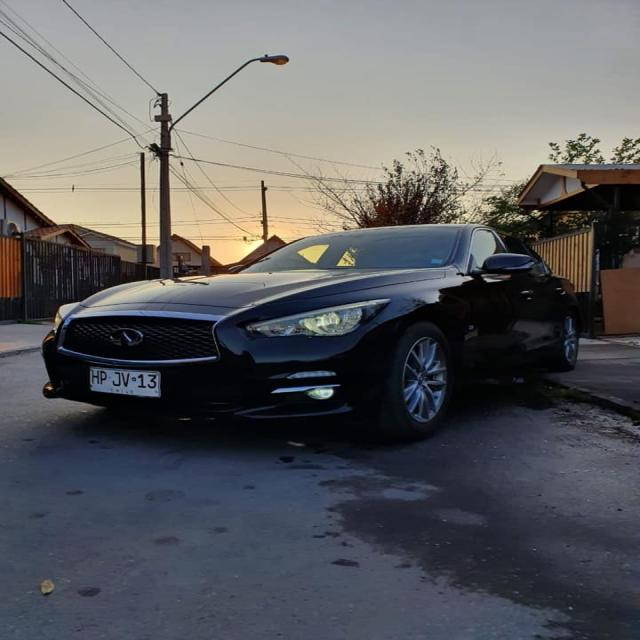patente: (86, 365, 162, 398)
